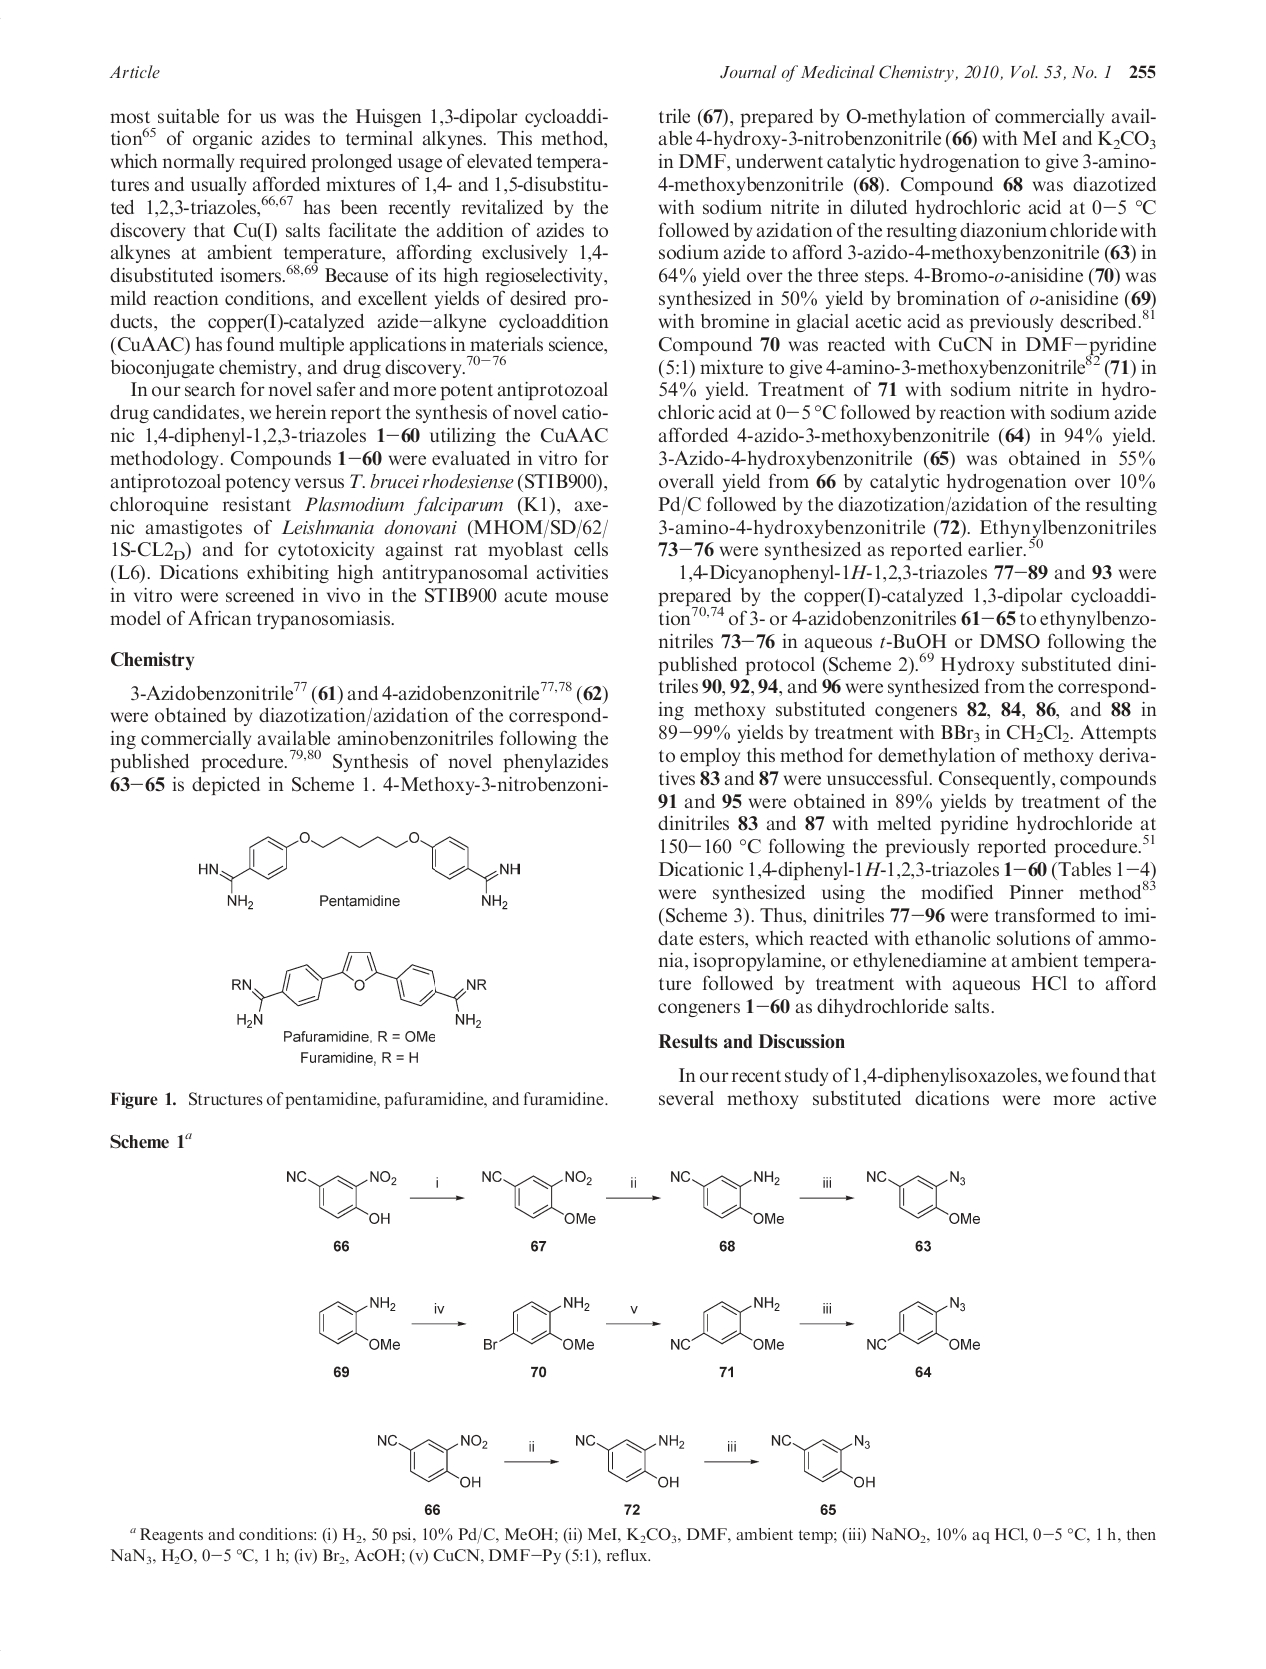exist_molecular: (197, 831, 521, 911), (229, 950, 488, 1031), (864, 1168, 983, 1227), (668, 1168, 787, 1226), (480, 1168, 597, 1226), (481, 1295, 596, 1355), (572, 1431, 688, 1488), (283, 1168, 398, 1225), (374, 1431, 488, 1488), (669, 1295, 786, 1351), (864, 1297, 981, 1352), (767, 1432, 876, 1489), (316, 1295, 403, 1352)
